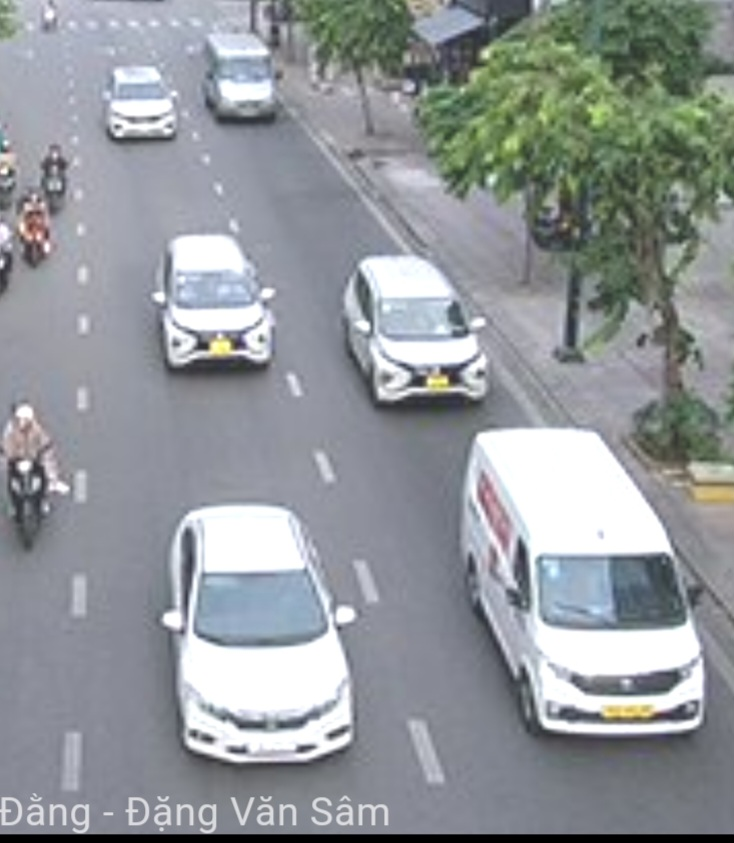car: (462, 429, 706, 734), (166, 501, 355, 760), (340, 253, 488, 405), (153, 232, 274, 369), (201, 36, 282, 127), (106, 66, 177, 142)
